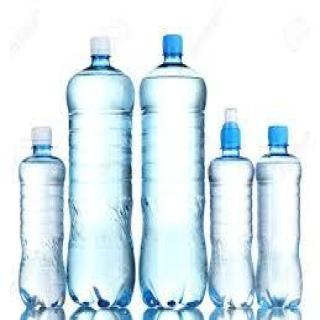Plastic-bottle: (138, 32, 210, 313), (67, 34, 138, 314), (207, 100, 258, 315), (17, 123, 68, 315), (257, 121, 305, 313)
